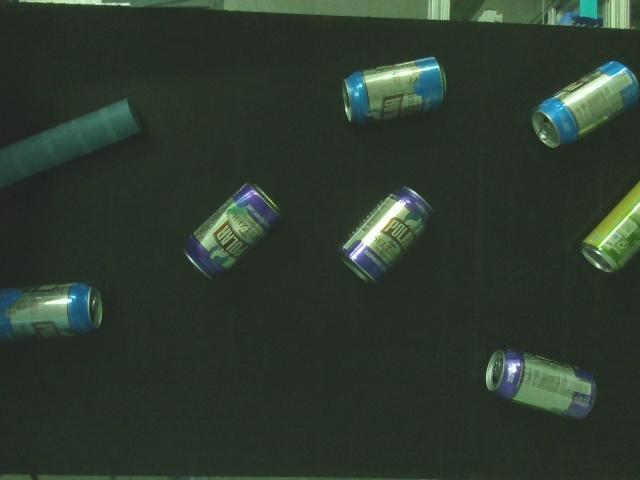cardboard: (0, 96, 147, 190)
metal: (182, 178, 284, 282), (337, 183, 438, 288), (531, 58, 640, 153), (483, 343, 600, 424), (340, 54, 452, 127), (0, 280, 108, 343), (580, 177, 640, 279)
